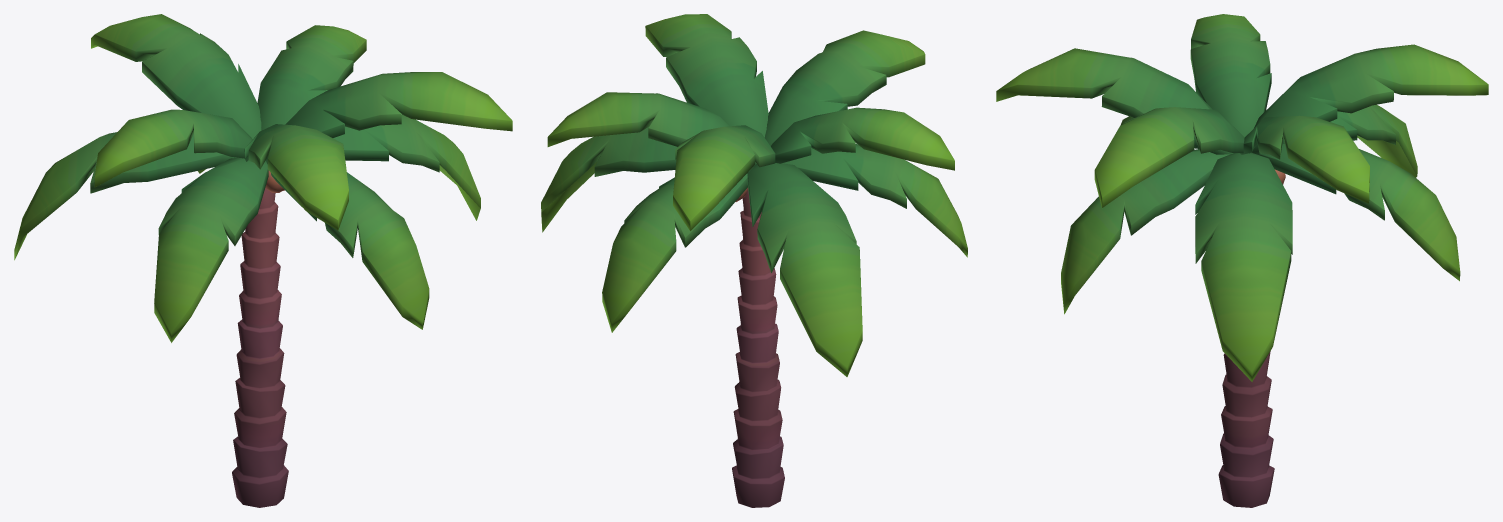
File: Tree_25.fbx
3 renders of one model, left to right at view 1: azimuth 30°, elevation 25°; view 2: azimuth 150°, elevation 25°; view 3: azimuth 270°, elevation 25°, orthographic. The views are drawn at different scales.
Parts seen in each view (by area): view 1: Tree_25; view 2: Tree_25; view 3: Tree_25.
Boxes of the visible parts, x1,y1,x2,y2 form: Tree_25: (14,14,512,507); Tree_25: (541,14,967,507); Tree_25: (996,14,1488,507).
Bounding box in the file's own units: 504 × 511 × 527.
